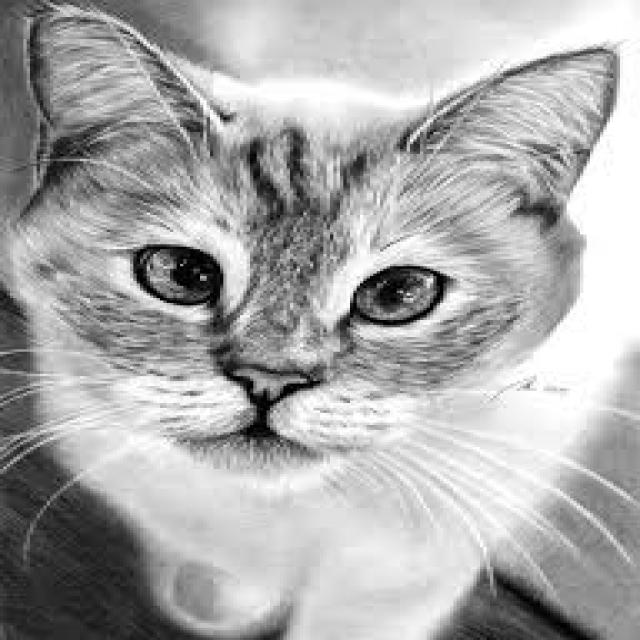Cat: (0, 0, 627, 640)
